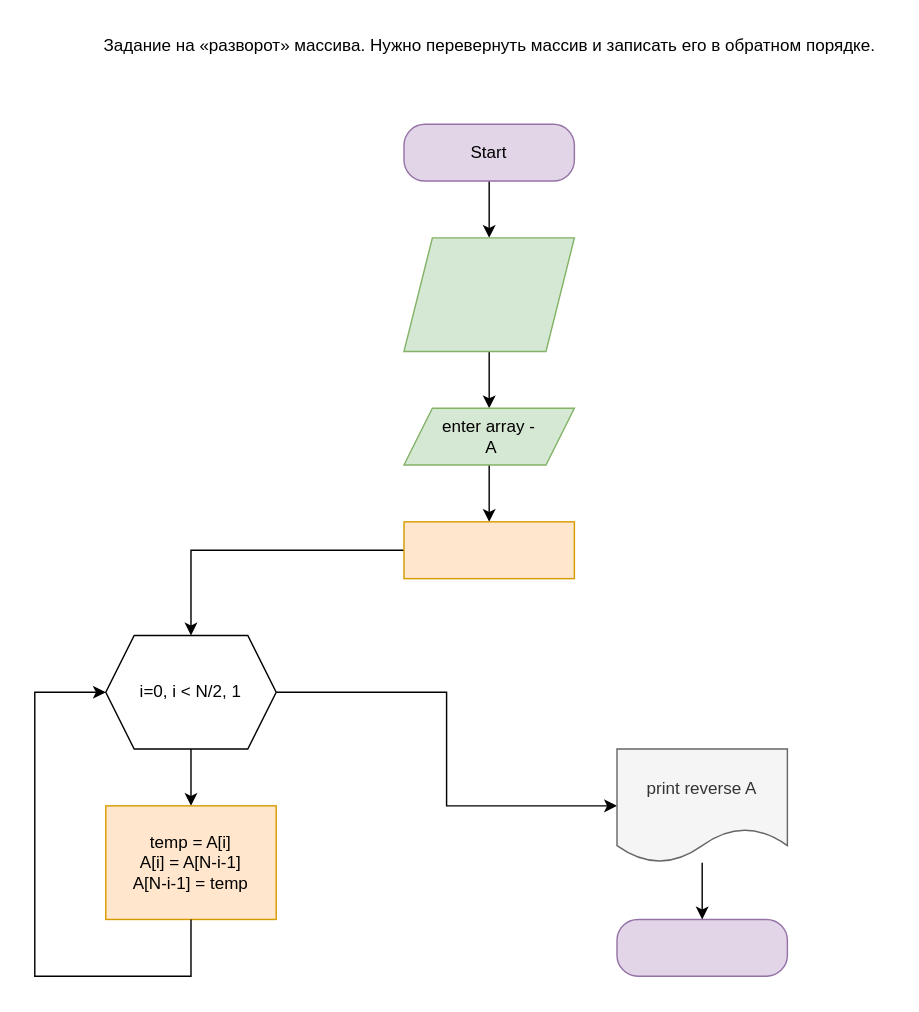
Image size: 919x1012. Some labels were removed from this diagram. Here are the shapes that lost their labels. From the top down, the box of each, then its label:
(403, 236, 574, 351): enter array dimention - N
(403, 520, 574, 579): temp =0
(616, 918, 787, 976): Finish
